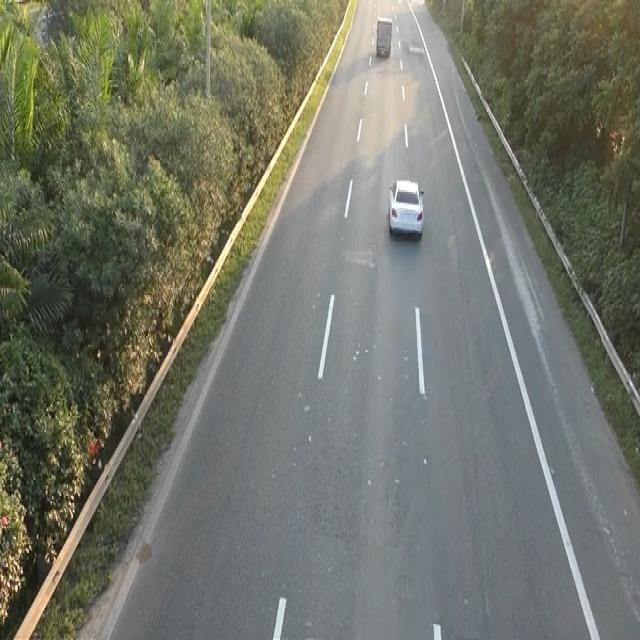bus: (386, 174, 426, 240)
minivan: (374, 14, 393, 59)
